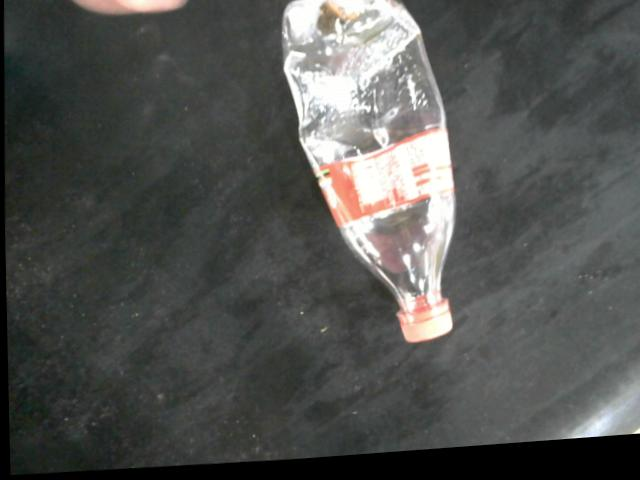bottle: (281, 0, 456, 349)
